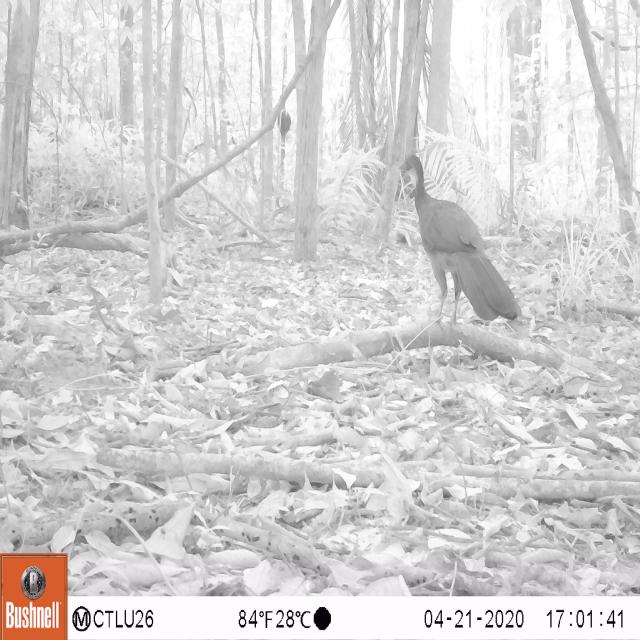Spixs Guan: (392, 149, 526, 337)
